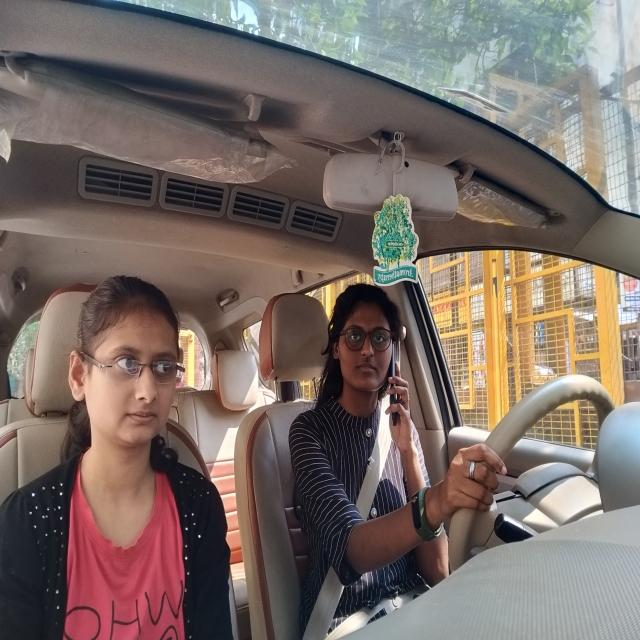mobile: (384, 342, 404, 431)
person: (51, 257, 192, 472), (324, 272, 408, 430)
